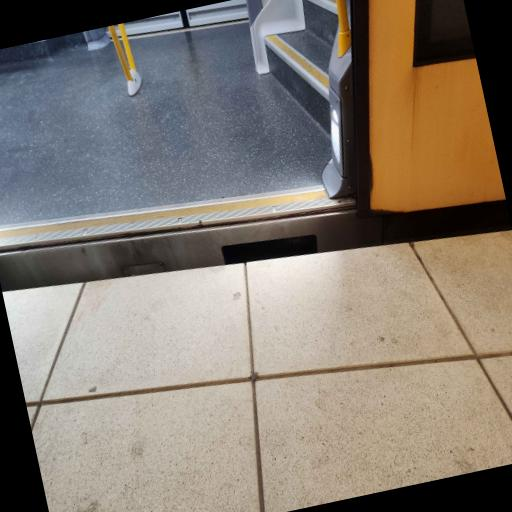gap: (0, 192, 512, 289)
